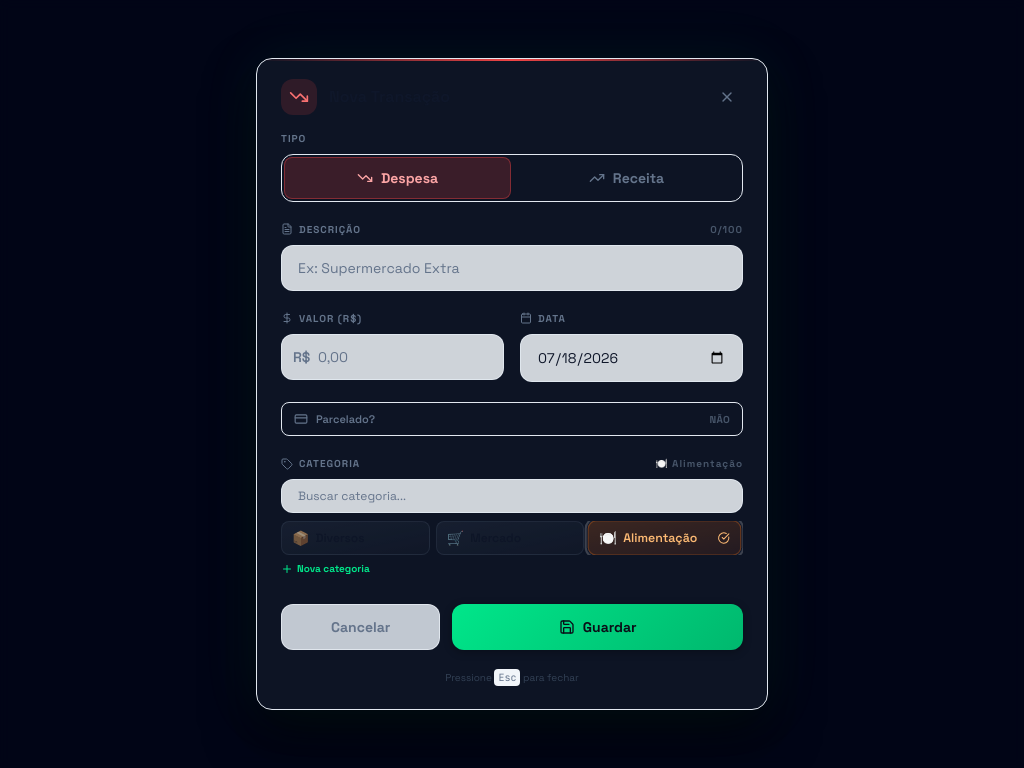
Scenario: TransactionForm › exige descrição antes de salvar
Click the button "Guardar" at (598, 627), box [452, 604, 743, 650]
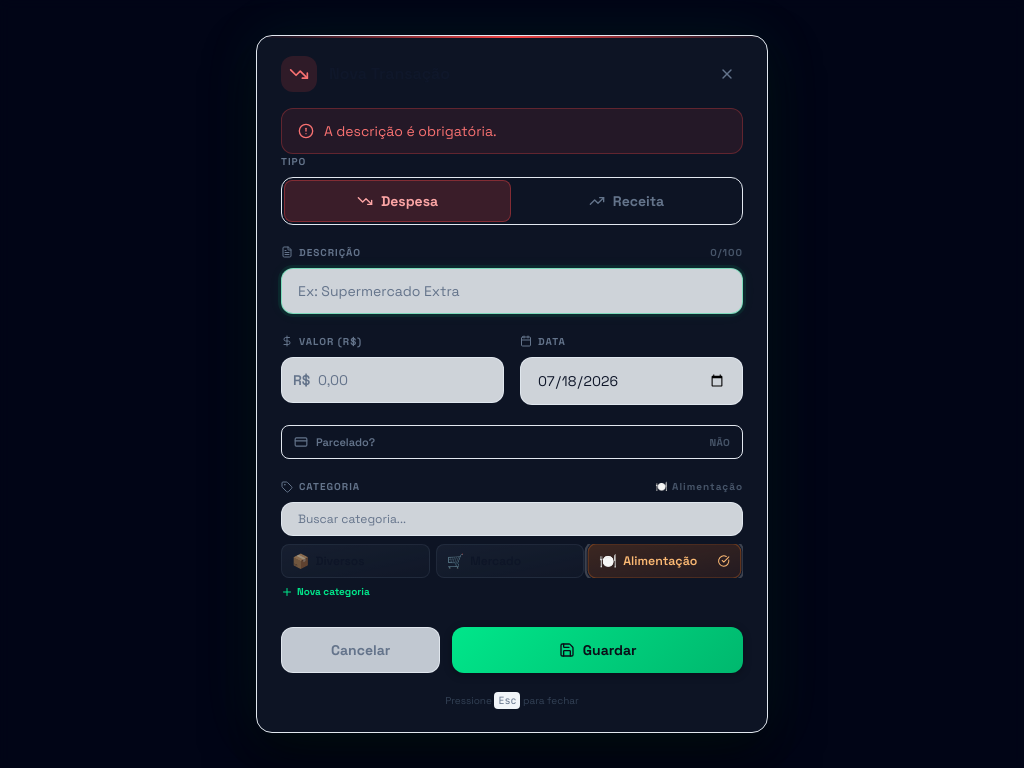
Check: the text "A descrição é obrigatória." is shown, box [281, 108, 743, 154]
